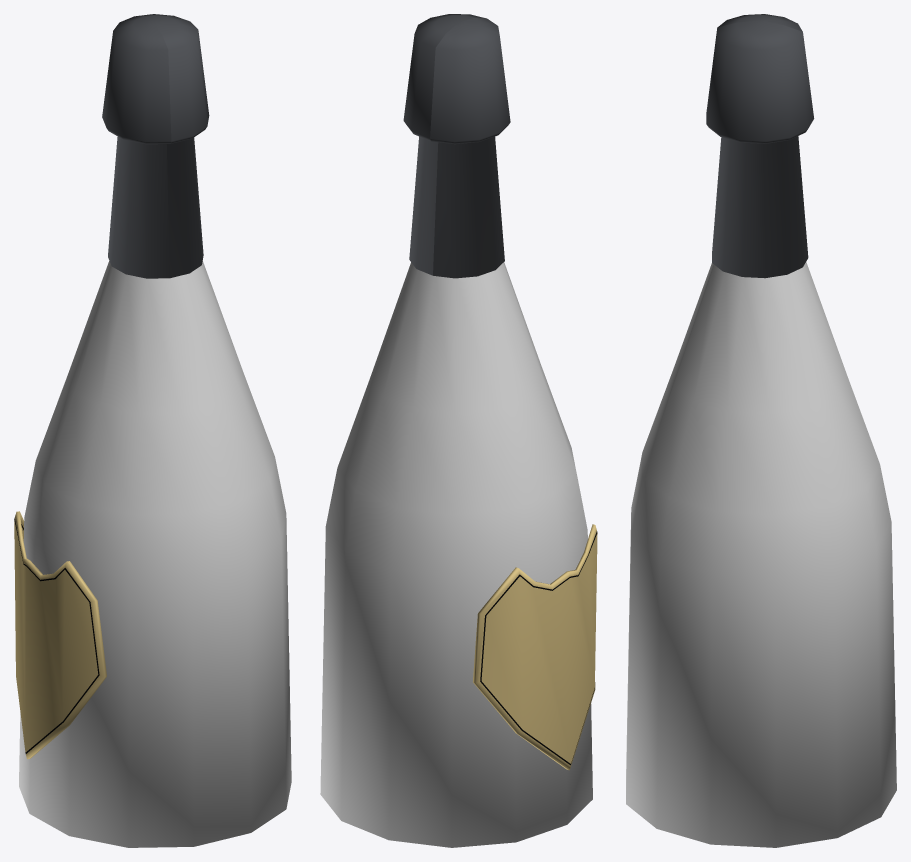
Rendered from DomPerignon.fbx.
The picture shows the model from 3 angles, left to right: view 1: azimuth 30°, elevation 25°; view 2: azimuth 150°, elevation 25°; view 3: azimuth 270°, elevation 25°; orthographic projection.
Visible parts, largest first — view 1: verre, verre.001, Etiquette; view 2: verre, verre.001, Etiquette; view 3: verre, verre.001.
Boxes of the visible parts, x1,y1,x2,y2 form: verre: (19,261,291,847); verre.001: (102,14,209,278); Etiquette: (14,511,106,759); verre: (320,262,592,847); verre.001: (403,14,510,278); Etiquette: (473,524,597,770); verre: (626,262,896,847); verre.001: (706,14,814,278).
Bounding box in the file's own units: 202 × 620 × 197.
